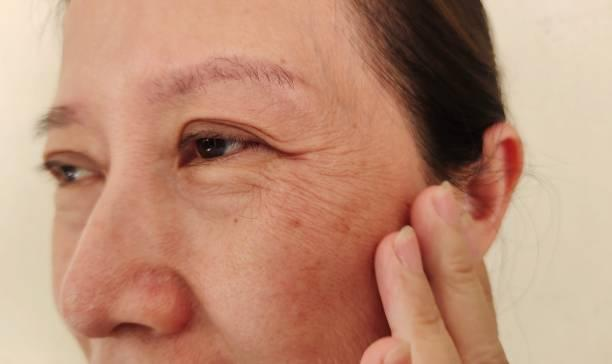Dry-Skin: (176, 182, 361, 342)
